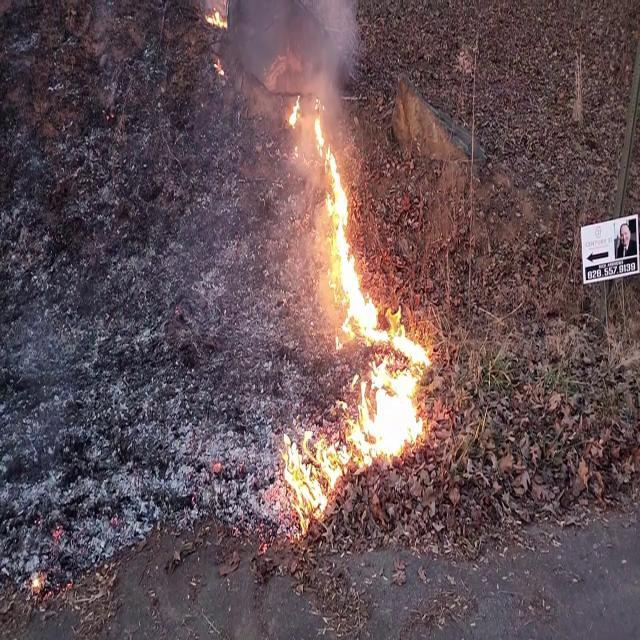Fire: (276, 328, 426, 536), (306, 105, 386, 352), (198, 0, 228, 31), (287, 95, 302, 136)
